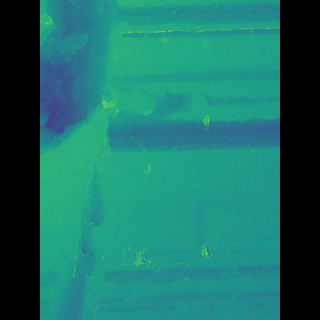Loch: (69, 0, 136, 320), (179, 170, 222, 320), (122, 77, 240, 130), (153, 14, 195, 68)
